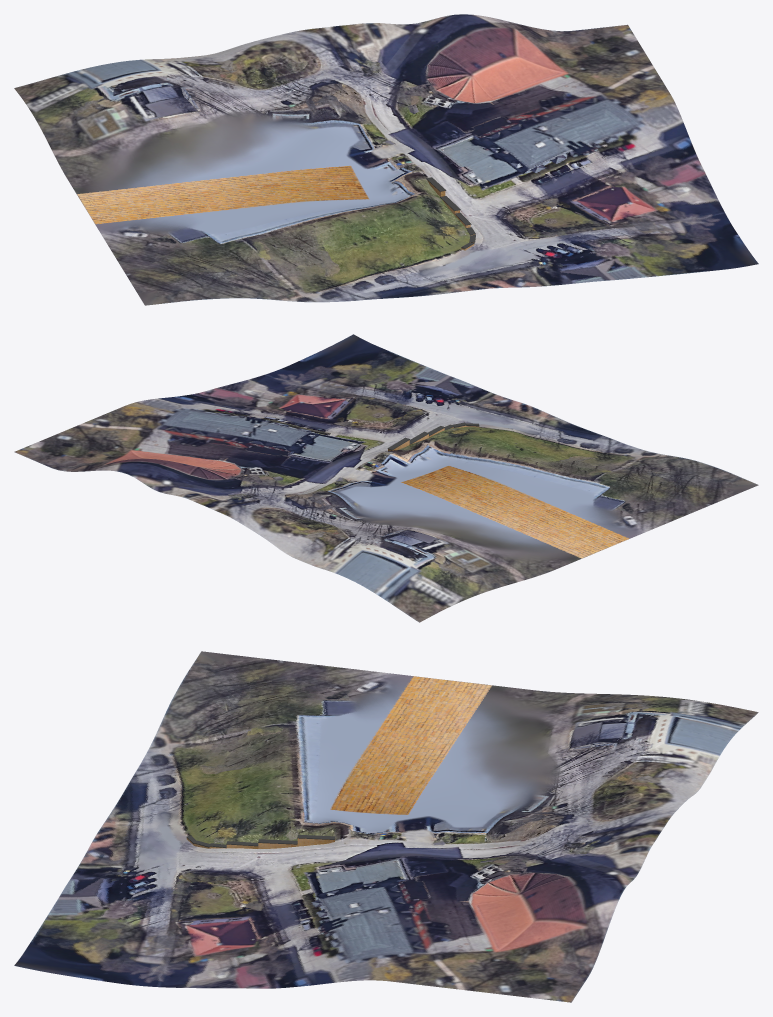
The model's file is AbbeanumGround.glb.
The picture shows the model from 3 angles, top to bottom: view 1: azimuth 30°, elevation 25°; view 2: azimuth 150°, elevation 25°; view 3: azimuth 270°, elevation 25°; orthographic projection. The views are drawn at different scales.
Parts seen in each view (by area): view 1: Plane.001, Cube.003; view 2: Plane.001, Cube.003; view 3: Plane.001, Cube.003.
Part boxes in pixels (left/top/right/bottom): Plane.001: left=14, top=14, right=758, bottom=305; Cube.003: left=426, top=177, right=475, bottom=250; Plane.001: left=14, top=334, right=758, bottom=622; Cube.003: left=387, top=422, right=479, bottom=450; Plane.001: left=14, top=651, right=758, bottom=1002; Cube.003: left=186, top=834, right=335, bottom=848.
Size of the model in its own units: 106 by 9.69 by 94.94.
Materials: 2 (1 with a texture image).
